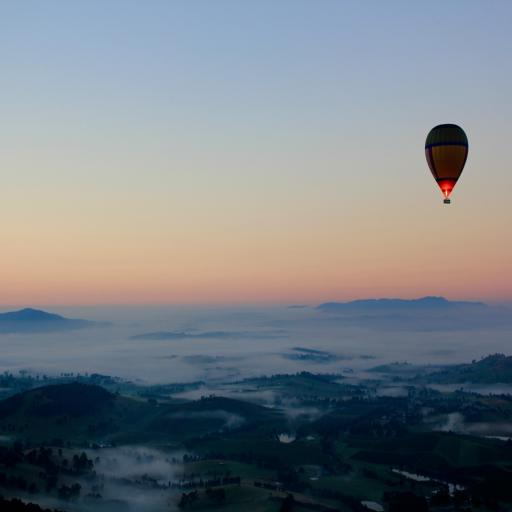hot air ballon: (425, 124, 468, 204)
